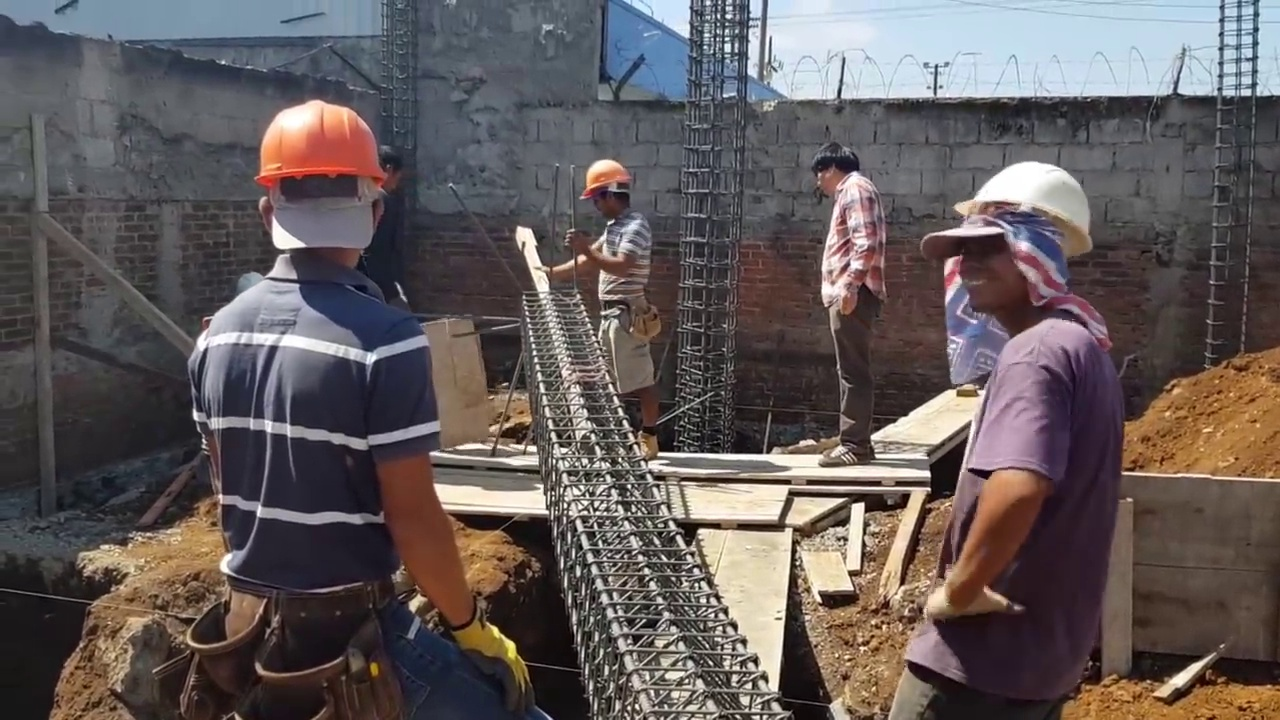helmet: (925, 162, 1103, 257), (248, 96, 387, 195), (578, 163, 632, 200)
helmet-off: (811, 141, 861, 201)
helmet-on: (933, 162, 1106, 338), (252, 94, 398, 292), (578, 161, 632, 225)
person: (179, 95, 514, 720), (907, 158, 1120, 720), (532, 153, 656, 442), (810, 137, 887, 468)
